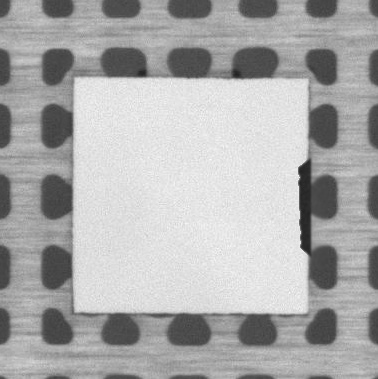DIE_BROKEN: (294, 156, 313, 260)
